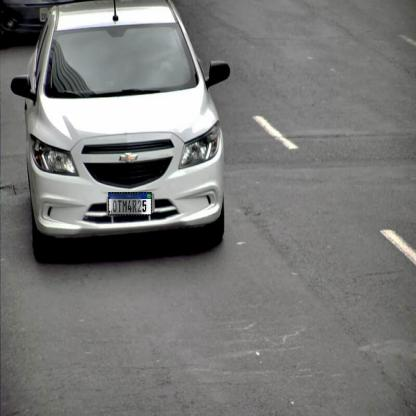PlacaM: (108, 192, 152, 216)
